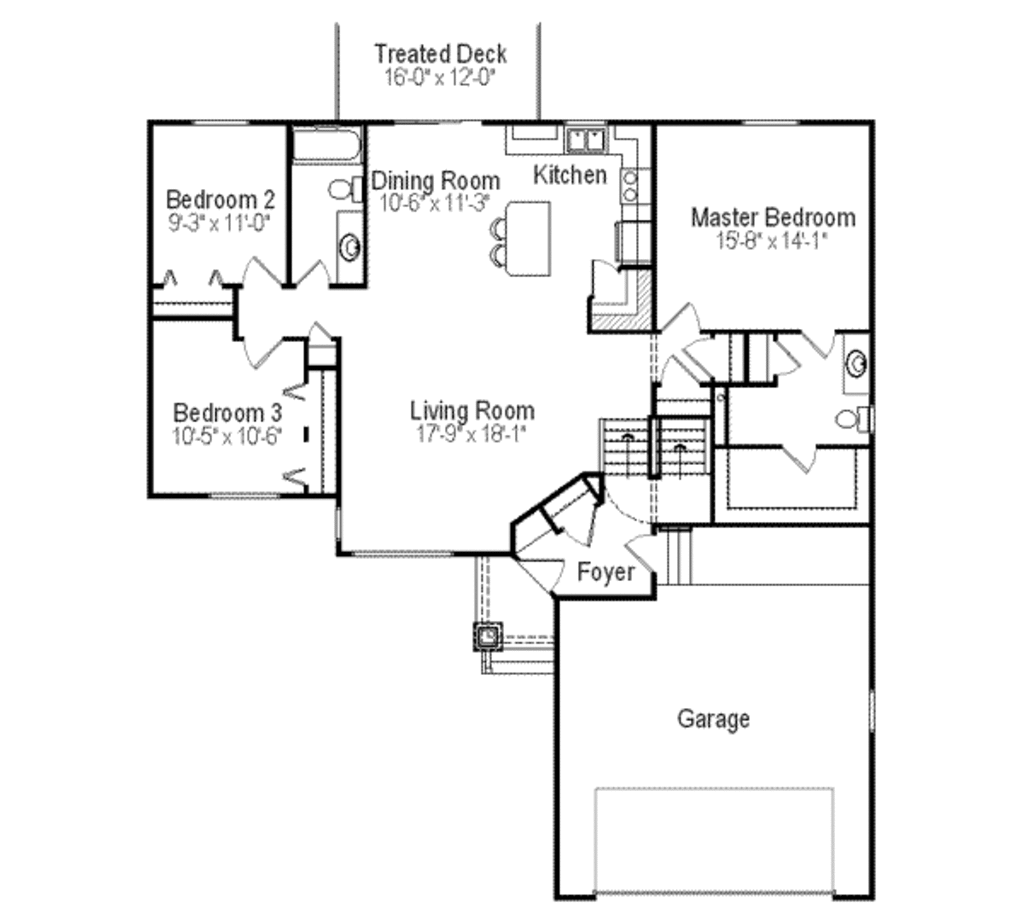door: (510, 545, 573, 593), (554, 500, 604, 552), (586, 253, 632, 309), (685, 332, 731, 386), (760, 329, 805, 383), (622, 519, 662, 575), (239, 249, 288, 291), (653, 296, 703, 336), (238, 337, 291, 373), (779, 438, 827, 474), (654, 352, 700, 386), (803, 324, 834, 362)
kitchen_bar: (485, 192, 554, 288)
large_sink: (319, 171, 371, 207), (835, 405, 879, 436)
small_sink: (338, 208, 376, 277), (841, 327, 871, 401)
stairs: (650, 401, 718, 501), (597, 403, 655, 486)
tub: (283, 125, 361, 160)
twin_sink: (559, 116, 620, 166)
window: (205, 483, 285, 507), (859, 684, 883, 747), (193, 112, 252, 134), (733, 113, 801, 130)
